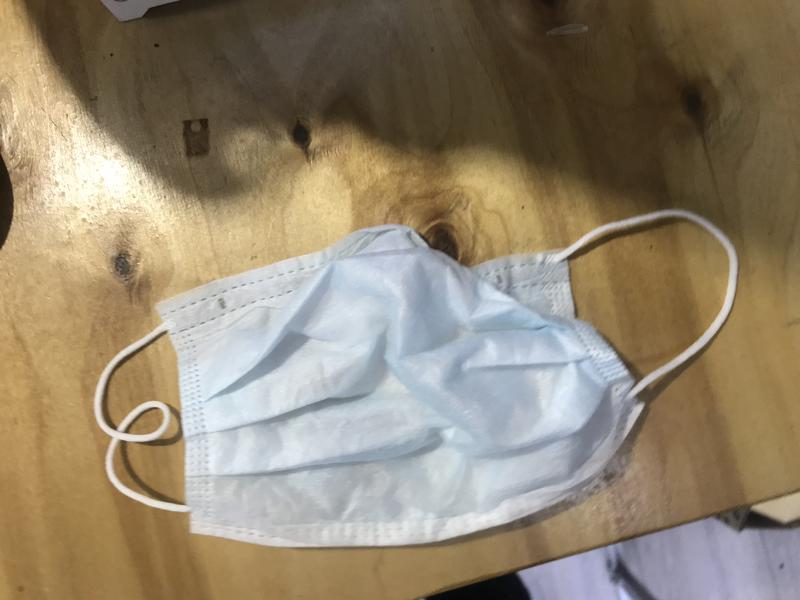medical_mask: (93, 208, 738, 547)
